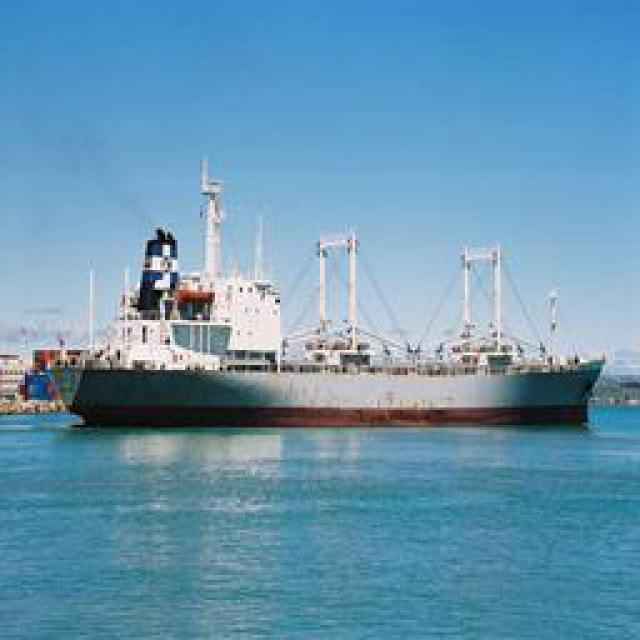Ship: (41, 190, 609, 425)
